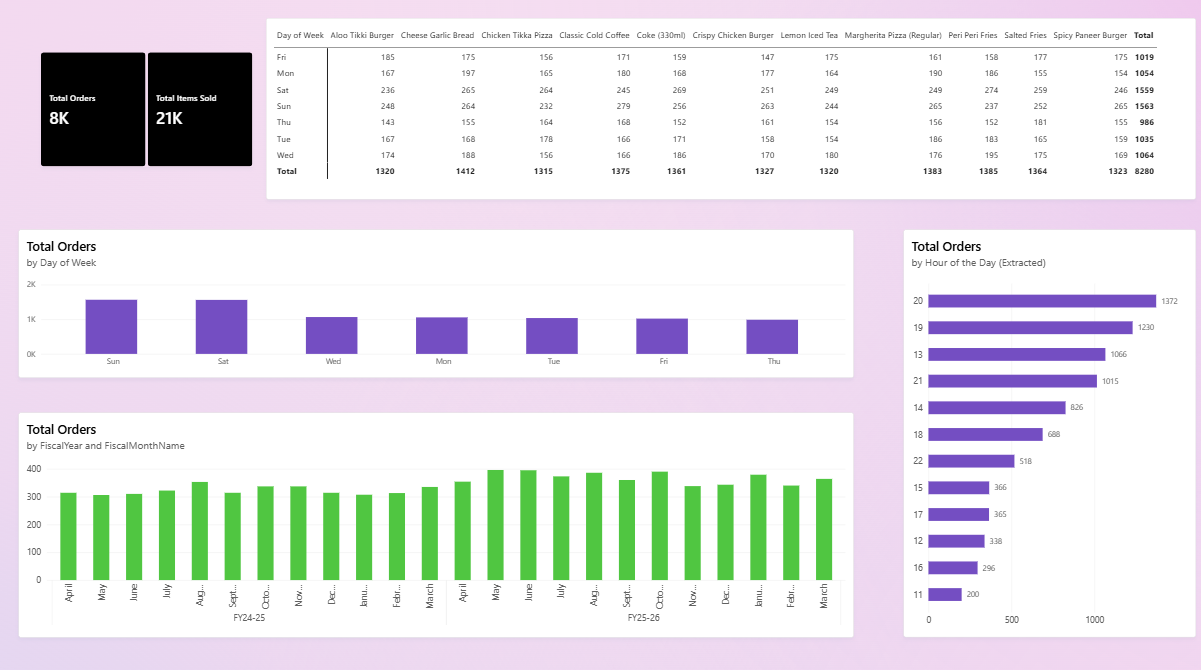

This screenshot's page, from the dashboard's own definition file:
{"tool":"powerbi","page":{"name":"Order Trends","canvas":[1920,1080],"ordinal":1},"visuals":[{"type":"clusteredColumnChart","fields":{"Category":["DimDate.FiscalYear","DimDate.FiscalMonthName"],"Y":["Key Measures Table.Total Orders"]},"box":[66.8,660.9,1329,357.9],"z":0},{"type":"columnChart","fields":{"Category":["DimDate.Day of Week"],"Y":["Key Measures Table.Total Orders"]},"box":[66.8,369.8,1329,236.2],"z":1000},{"type":"pivotTable","fields":{"Columns":["Consolidated Sales.Item_Name"],"Rows":["DimDate.FiscalYear","DimDate.FiscalMonthName","DimDate.Day of Week"],"Values":["Key Measures Table.Total Orders"]},"box":[424.7,33.4,1479.3,288.7],"z":2000},{"type":"clusteredBarChart","fields":{"Category":["Consolidated Sales.Hour of the Day (Extracted)"],"Y":["Key Measures Table.Total Orders"]},"box":[1438.7,369.8,465.3,649],"z":3000},{"type":"cardVisual","fields":{"Data":["Key Measures Table.Total Orders","Key Measures Table.Total Items Sold"]},"box":[66.8,88.3,336.4,181.3],"z":4000}]}

Visuals, with their boxes in screenshot pixels (x1, y1, x2, y2), scaled from the page's 1920x1080 canvas onto the 1201x670 screenshot:
clusteredColumnChart - DimDate.FiscalYear x DimDate.FiscalMonthName: crop(42, 410, 873, 632)
columnChart - DimDate.Day of Week x Key Measures Table.Total Orders: crop(42, 229, 873, 376)
pivotTable - Consolidated Sales.Item_Name x DimDate.FiscalYear: crop(266, 21, 1191, 200)
clusteredBarChart - Consolidated Sales.Hour of the Day (Extracted) x Key Measures Table.Total Orders: crop(900, 229, 1191, 632)
cardVisual - Key Measures Table.Total Orders x Key Measures Table.Total Items Sold: crop(42, 55, 252, 167)
